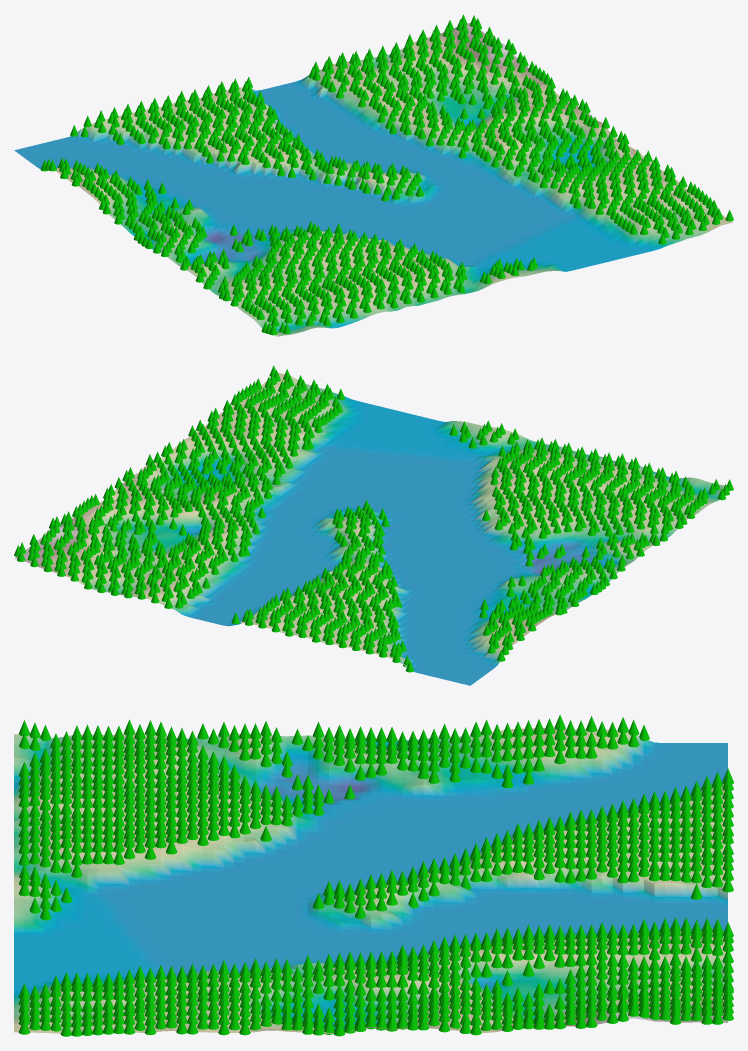
Rendered from 003534_with_tree.glb.
3 views of the same model, one above another, from view 1: azimuth 30°, elevation 25°; view 2: azimuth 150°, elevation 25°; view 3: azimuth 270°, elevation 25° (orthographic). The views are drawn at different scales.
Parts seen in each view (by area): view 1: terrain, trees; view 2: terrain, trees; view 3: terrain, trees.
Boxes of the visible parts, bbox=[...] form: terrain: bbox=[14, 23, 732, 336]; trees: bbox=[40, 14, 733, 335]; terrain: bbox=[14, 372, 724, 685]; trees: bbox=[14, 365, 733, 672]; terrain: bbox=[14, 728, 727, 1033]; trees: bbox=[18, 714, 733, 1036].
Size of the model in its own units: 0.0186 by 0.00123 by 0.0185.
